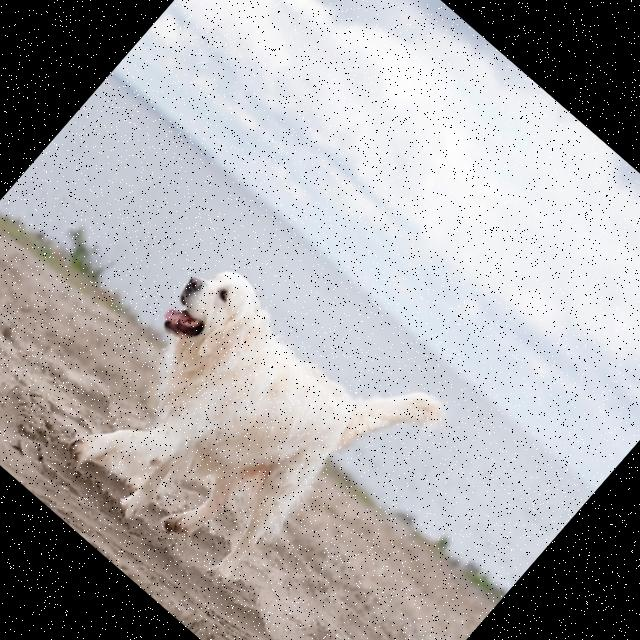Dog: (46, 224, 452, 630)
